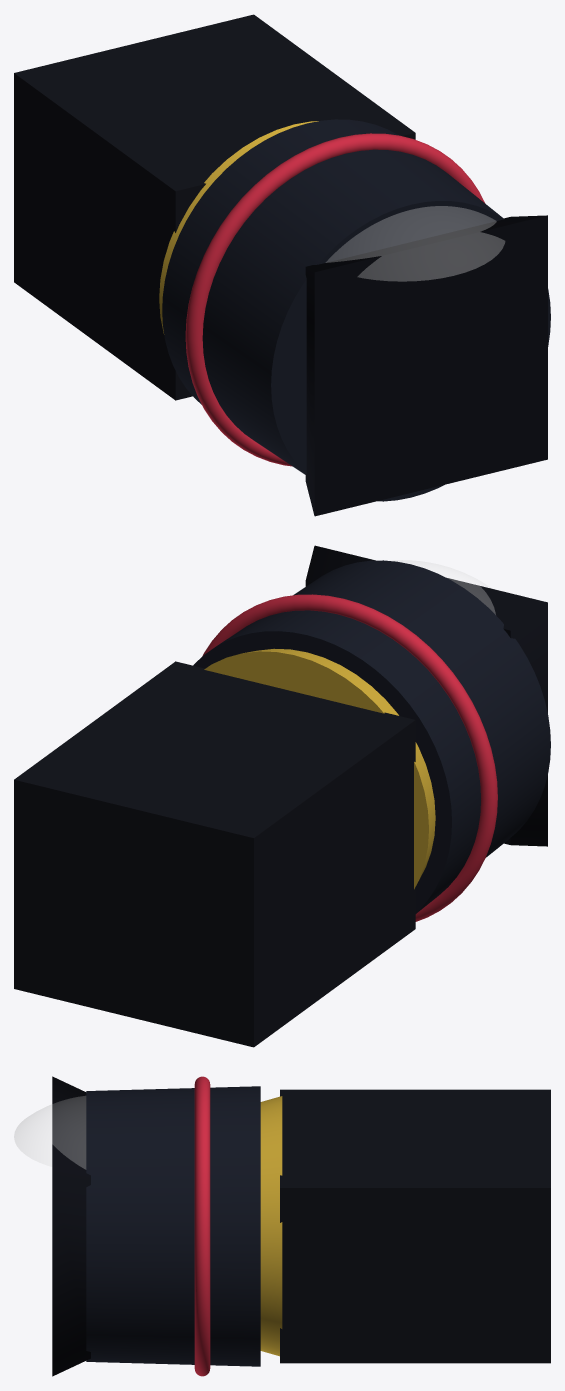
File: cinema_lens.glb
3 renders of one model, top to bottom at view 1: azimuth 30°, elevation 25°; view 2: azimuth 150°, elevation 25°; view 3: azimuth 270°, elevation 25°, orthographic. The views are drawn at different scales.
Visible parts, largest first — view 1: Camera_Body, Matte_Box_Flange, Anamorphic_Housing, Focal_Ring_Milled, Lens_Front_Curved, Mount_Flange; view 2: Camera_Body, Anamorphic_Housing, Focal_Ring_Milled, Mount_Flange, Matte_Box_Flange, Lens_Front_Curved; view 3: Camera_Body, Anamorphic_Housing, Matte_Box_Flange, Mount_Flange, Focal_Ring_Milled, Lens_Front_Curved.
Part boxes in pixels (x1=…): Camera_Body: x1=14, y1=14, x2=415, y2=400; Matte_Box_Flange: x1=305, y1=215, x2=547, y2=516; Anamorphic_Housing: x1=162, y1=119, x2=550, y2=501; Focal_Ring_Milled: x1=185, y1=133, x2=485, y2=466; Lens_Front_Curved: x1=326, y1=206, x2=504, y2=281; Mount_Flange: x1=159, y1=121, x2=318, y2=334; Camera_Body: x1=14, y1=661, x2=415, y2=1047; Anamorphic_Housing: x1=193, y1=560, x2=550, y2=913; Focal_Ring_Milled: x1=202, y1=594, x2=497, y2=921; Mount_Flange: x1=204, y1=648, x2=435, y2=889; Matte_Box_Flange: x1=305, y1=545, x2=547, y2=846; Lens_Front_Curved: x1=392, y1=560, x2=495, y2=614; Camera_Body: x1=280, y1=1089, x2=550, y2=1363; Anamorphic_Housing: x1=86, y1=1086, x2=260, y2=1366; Matte_Box_Flange: x1=52, y1=1076, x2=90, y2=1376; Mount_Flange: x1=260, y1=1096, x2=282, y2=1356; Focal_Ring_Milled: x1=194, y1=1076, x2=210, y2=1376; Lens_Front_Curved: x1=14, y1=1096, x2=85, y2=1169.
Bounding box in the file's own units: 3.1 × 3.1 × 5.55.
